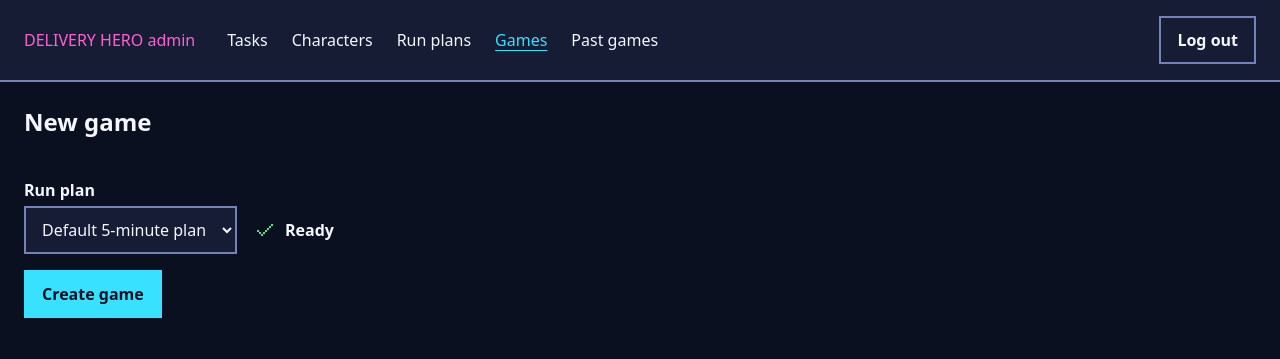
it: NewGameScreen › changing the plan clears an earlier refusal
Check: the text "Ready" is shown, box [253,218,334,242]
Click the button "Create game": (93, 294) [24,270,162,318]
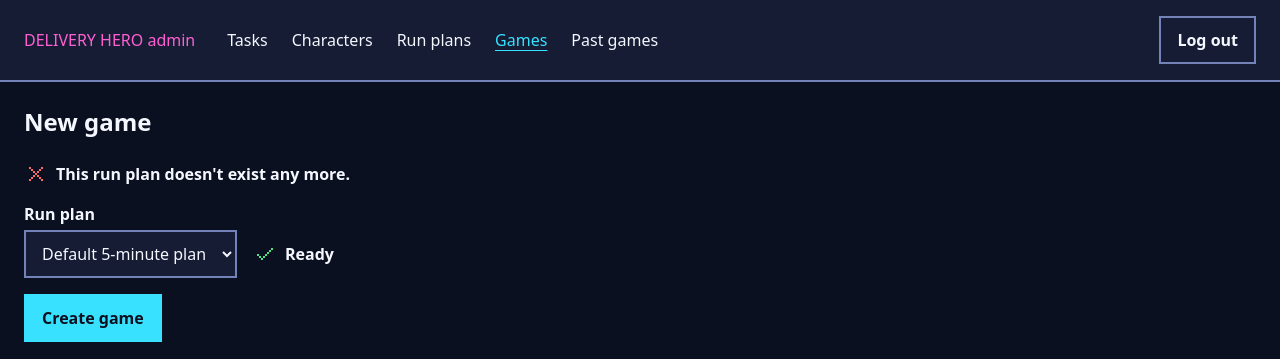
Check: the text "This run plan doesn't exist any more." is shown, box [24,162,350,186]
Select "Friday fun" in the dropdown labelled "Run plan": (130, 254) [24,230,237,278]
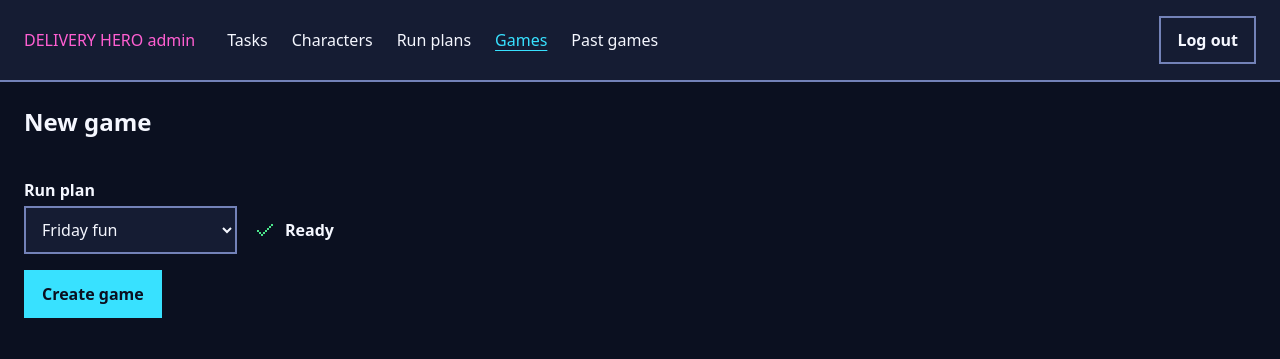
Check: the text "This run plan doesn't exist any more." is gone
